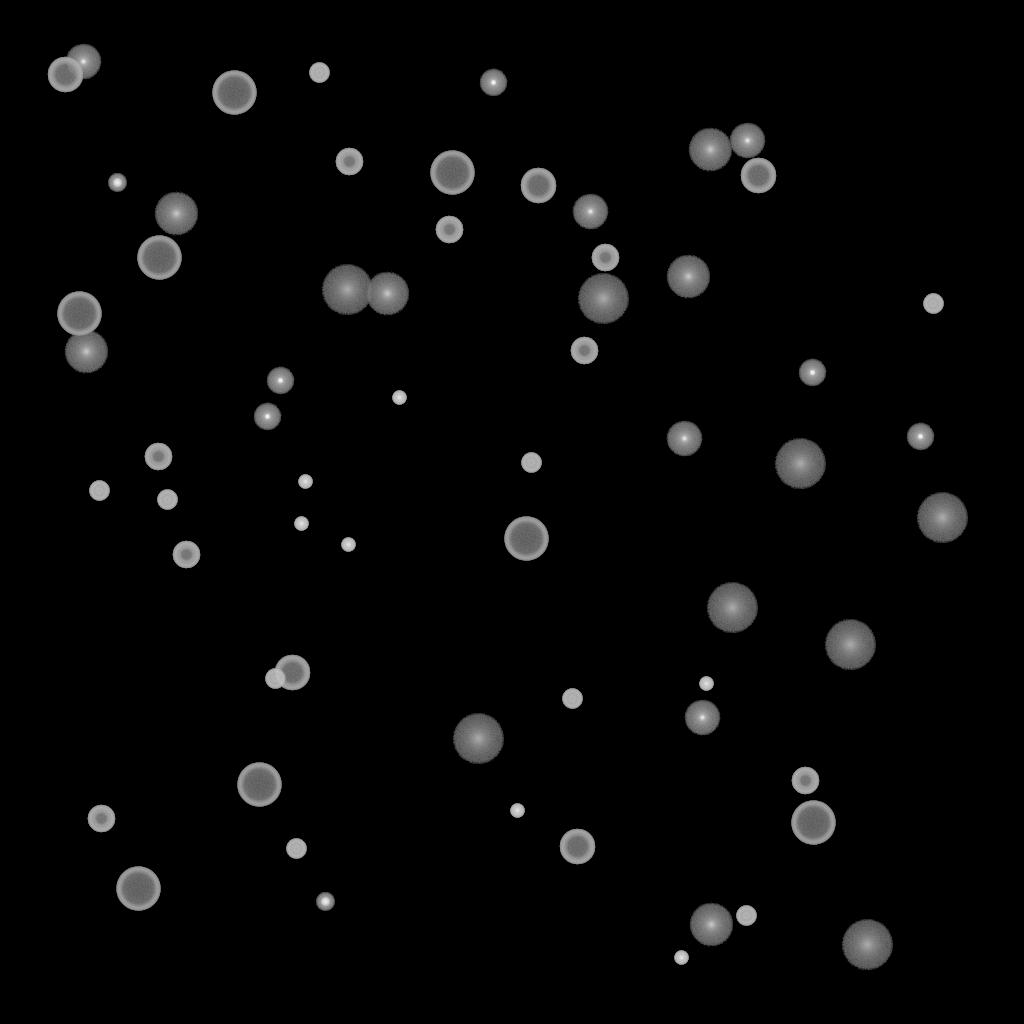depth:-10: (906, 423, 934, 451), (798, 359, 826, 387), (266, 367, 294, 395), (479, 69, 507, 97), (253, 403, 281, 431)
depth:-20: (108, 174, 126, 192), (316, 893, 334, 911)
depth:-30: (294, 517, 308, 531), (341, 538, 355, 552), (392, 391, 406, 405), (298, 475, 312, 489), (699, 677, 713, 691), (674, 951, 688, 965), (510, 804, 524, 818)
depth:-40: (736, 906, 756, 926), (265, 669, 285, 689), (309, 63, 329, 83), (521, 453, 541, 473), (89, 481, 109, 501), (923, 294, 943, 314), (562, 689, 582, 709), (286, 839, 306, 859), (157, 490, 177, 510)
depth:-50: (570, 337, 598, 365), (172, 541, 200, 569), (591, 244, 619, 272), (435, 216, 463, 244), (335, 148, 363, 176), (791, 767, 819, 795), (87, 805, 115, 833), (144, 443, 172, 471)
depth:-60: (274, 655, 310, 691), (47, 57, 83, 93), (559, 829, 595, 865), (520, 168, 556, 204), (740, 158, 776, 194)
depth:-70: (237, 763, 281, 807), (504, 517, 548, 561), (212, 71, 256, 115), (430, 151, 474, 195), (57, 292, 101, 336), (116, 867, 160, 911), (137, 236, 181, 280), (791, 801, 835, 845)
depth:0: (684, 700, 720, 736), (729, 123, 765, 159), (572, 194, 608, 230), (666, 421, 702, 457), (65, 44, 101, 80)
depth:10: (689, 903, 733, 947), (365, 272, 409, 316), (154, 192, 198, 236), (666, 255, 710, 299), (688, 128, 732, 172), (64, 330, 108, 374)
depth:20: (774, 439, 826, 489), (452, 714, 504, 764), (577, 274, 629, 324), (321, 265, 373, 315), (841, 920, 893, 970), (824, 620, 876, 670), (916, 493, 968, 543), (706, 583, 758, 633)
